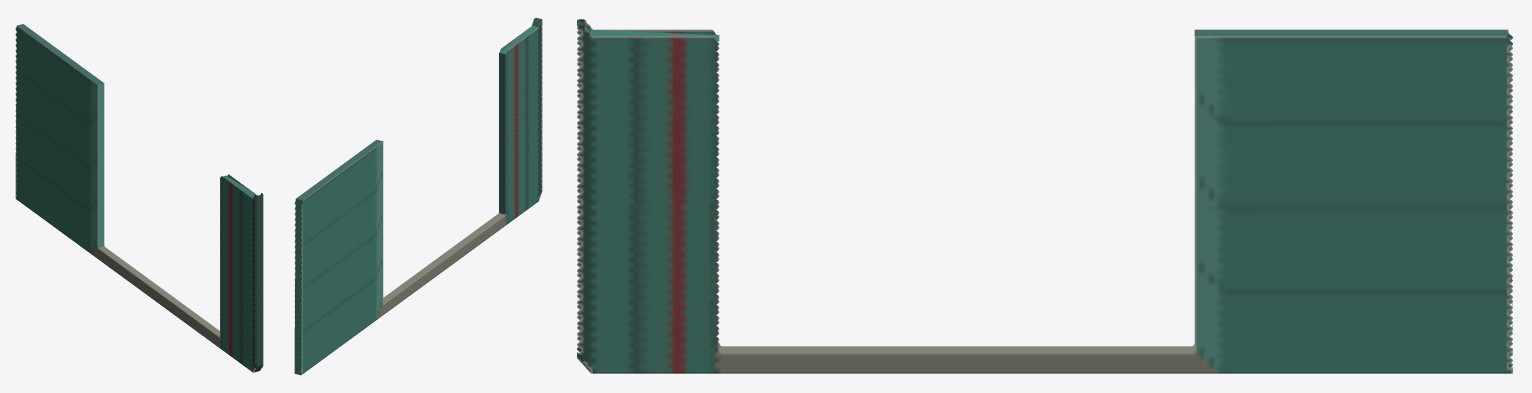
File: pz_native_location_restaurant_diner_01_58_frame.obj
The picture shows the model from 3 angles, left to right: view 1: azimuth 30°, elevation 25°; view 2: azimuth 150°, elevation 25°; view 3: azimuth 270°, elevation 25°; orthographic projection. The views are drawn at different scales.
Visible parts, largest first — view 1: pz_native_location_restaurant_diner_01_58_frame; view 2: pz_native_location_restaurant_diner_01_58_frame; view 3: pz_native_location_restaurant_diner_01_58_frame.
Part boxes in pixels (x1,y1,x2,y2): pz_native_location_restaurant_diner_01_58_frame: [15, 24, 263, 372]; pz_native_location_restaurant_diner_01_58_frame: [294, 17, 542, 375]; pz_native_location_restaurant_diner_01_58_frame: [577, 19, 1512, 373].
Size of the model in its own units: 0.04 by 1.06 by 2.54.
1 material, 1 textured.
